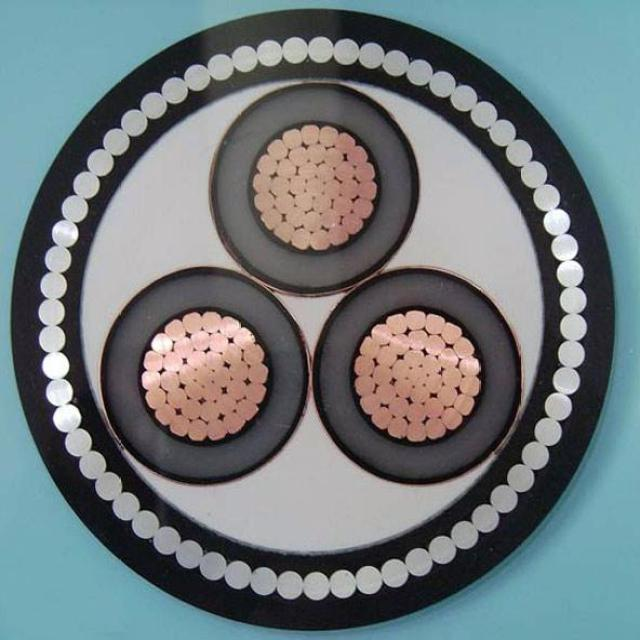wire: (499, 456, 538, 496), (464, 98, 502, 134), (485, 481, 521, 518), (302, 560, 330, 606), (439, 87, 492, 111), (538, 205, 574, 240), (501, 136, 536, 172), (540, 389, 575, 425), (98, 124, 133, 160), (68, 168, 104, 203), (426, 536, 462, 571), (117, 105, 151, 142), (335, 31, 360, 81), (442, 518, 481, 550), (466, 502, 506, 533), (548, 364, 584, 398), (36, 350, 74, 382), (396, 548, 439, 576), (47, 195, 97, 219), (284, 36, 314, 76), (48, 216, 82, 251), (546, 231, 582, 264), (551, 257, 587, 290), (548, 336, 586, 367), (411, 40, 430, 102), (181, 525, 202, 580), (36, 269, 70, 302), (555, 312, 590, 344), (354, 564, 385, 600), (33, 328, 79, 352), (140, 80, 166, 122), (555, 285, 590, 316), (533, 414, 564, 449), (34, 297, 69, 328), (39, 381, 84, 405), (86, 140, 115, 177), (119, 476, 138, 532), (233, 44, 265, 77), (384, 39, 403, 94), (278, 561, 302, 604), (188, 64, 221, 95), (229, 548, 250, 596), (433, 56, 452, 109), (514, 442, 552, 468), (54, 430, 98, 452), (45, 406, 89, 428), (378, 555, 409, 586), (163, 74, 193, 106), (142, 492, 159, 548), (312, 33, 333, 76), (260, 38, 286, 72), (525, 184, 565, 206), (254, 558, 274, 600), (204, 536, 220, 588), (40, 246, 71, 272), (164, 514, 178, 570), (73, 451, 112, 471), (212, 54, 238, 82), (332, 565, 354, 598), (515, 169, 553, 187), (248, 150, 276, 173), (364, 39, 378, 83), (177, 309, 204, 331), (240, 398, 266, 420), (382, 418, 410, 438), (422, 306, 442, 334), (239, 344, 267, 364), (352, 338, 383, 356), (246, 383, 275, 402), (384, 396, 408, 418), (146, 332, 172, 352), (442, 365, 465, 387), (262, 139, 287, 159), (354, 376, 379, 396), (369, 324, 394, 344), (212, 363, 238, 382), (343, 146, 367, 166), (436, 386, 460, 406), (427, 419, 452, 438), (249, 364, 270, 386), (161, 321, 188, 338), (460, 377, 484, 396), (208, 422, 232, 441), (92, 474, 122, 489), (343, 217, 369, 234), (339, 176, 359, 198), (250, 171, 272, 191), (219, 313, 239, 335), (142, 351, 164, 371), (454, 339, 477, 358), (327, 226, 350, 245), (224, 414, 248, 432), (230, 329, 255, 346), (281, 128, 302, 148), (391, 336, 412, 356), (442, 322, 463, 342), (385, 313, 404, 335), (425, 333, 443, 356), (407, 307, 424, 331), (441, 408, 461, 428), (355, 196, 375, 216), (223, 383, 248, 399), (276, 157, 297, 176), (164, 351, 185, 370), (176, 414, 190, 442), (218, 345, 244, 360), (302, 124, 321, 144), (317, 162, 336, 182), (292, 228, 311, 248), (142, 370, 161, 390), (439, 347, 457, 368), (459, 358, 480, 376), (375, 408, 390, 433), (376, 383, 395, 402), (255, 188, 273, 208), (166, 392, 190, 407), (164, 370, 182, 390), (189, 332, 209, 350), (205, 309, 220, 333), (190, 421, 208, 441), (207, 334, 228, 351), (145, 391, 166, 408), (321, 210, 343, 226), (357, 356, 374, 376), (411, 384, 428, 404), (275, 198, 296, 214), (392, 359, 407, 381), (278, 220, 292, 243), (262, 206, 276, 229), (380, 346, 396, 366), (411, 366, 427, 386), (156, 408, 180, 421), (322, 124, 336, 146), (410, 420, 424, 442), (327, 146, 344, 164), (230, 363, 247, 381), (356, 165, 375, 181), (200, 403, 219, 419), (312, 197, 332, 212), (336, 163, 357, 177), (201, 353, 222, 367), (290, 175, 306, 193), (308, 145, 326, 161), (359, 182, 377, 198), (217, 396, 235, 412), (397, 381, 412, 400), (175, 339, 194, 354), (200, 385, 219, 400), (375, 362, 389, 382), (405, 349, 425, 363), (306, 213, 322, 230), (290, 149, 308, 164), (323, 181, 341, 196), (411, 404, 426, 422), (194, 367, 212, 382), (458, 393, 472, 412), (428, 371, 439, 395), (300, 162, 316, 178), (294, 195, 312, 209), (426, 354, 440, 372), (313, 230, 327, 248), (184, 400, 198, 418), (276, 176, 288, 196), (428, 397, 440, 417), (334, 201, 354, 213), (304, 175, 318, 192), (365, 392, 374, 418), (341, 134, 355, 150), (291, 210, 305, 225), (183, 364, 193, 384), (412, 330, 423, 348), (187, 384, 200, 399), (194, 354, 206, 364)
